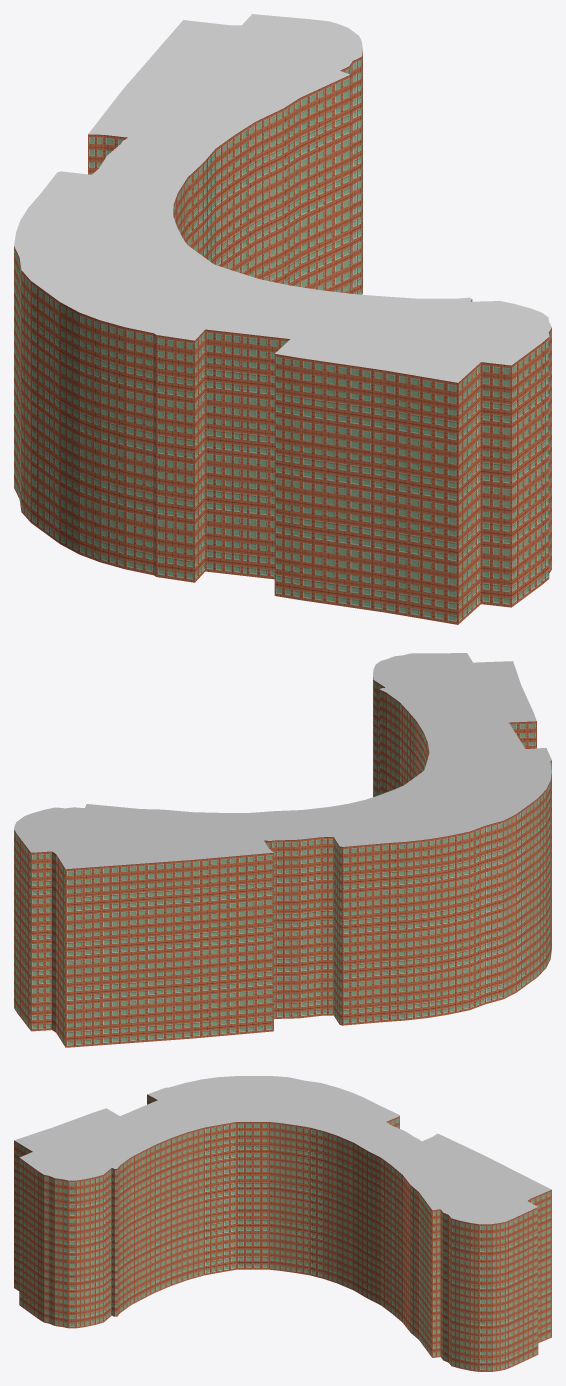
The picture shows the model from 3 angles, top to bottom: view 1: azimuth 30°, elevation 25°; view 2: azimuth 150°, elevation 25°; view 3: azimuth 270°, elevation 25°; orthographic projection. The views are drawn at different scales.
Size of the model in its own units: 129 by 60 by 198.
Materials: 2 (1 with a texture image).
